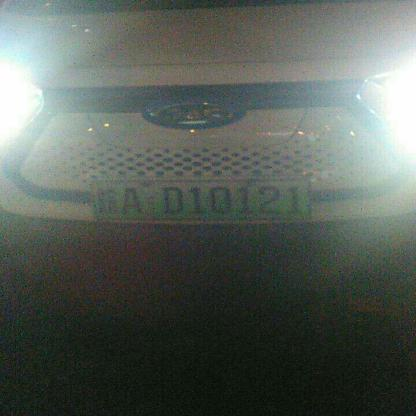lp: (92, 178, 310, 221)
